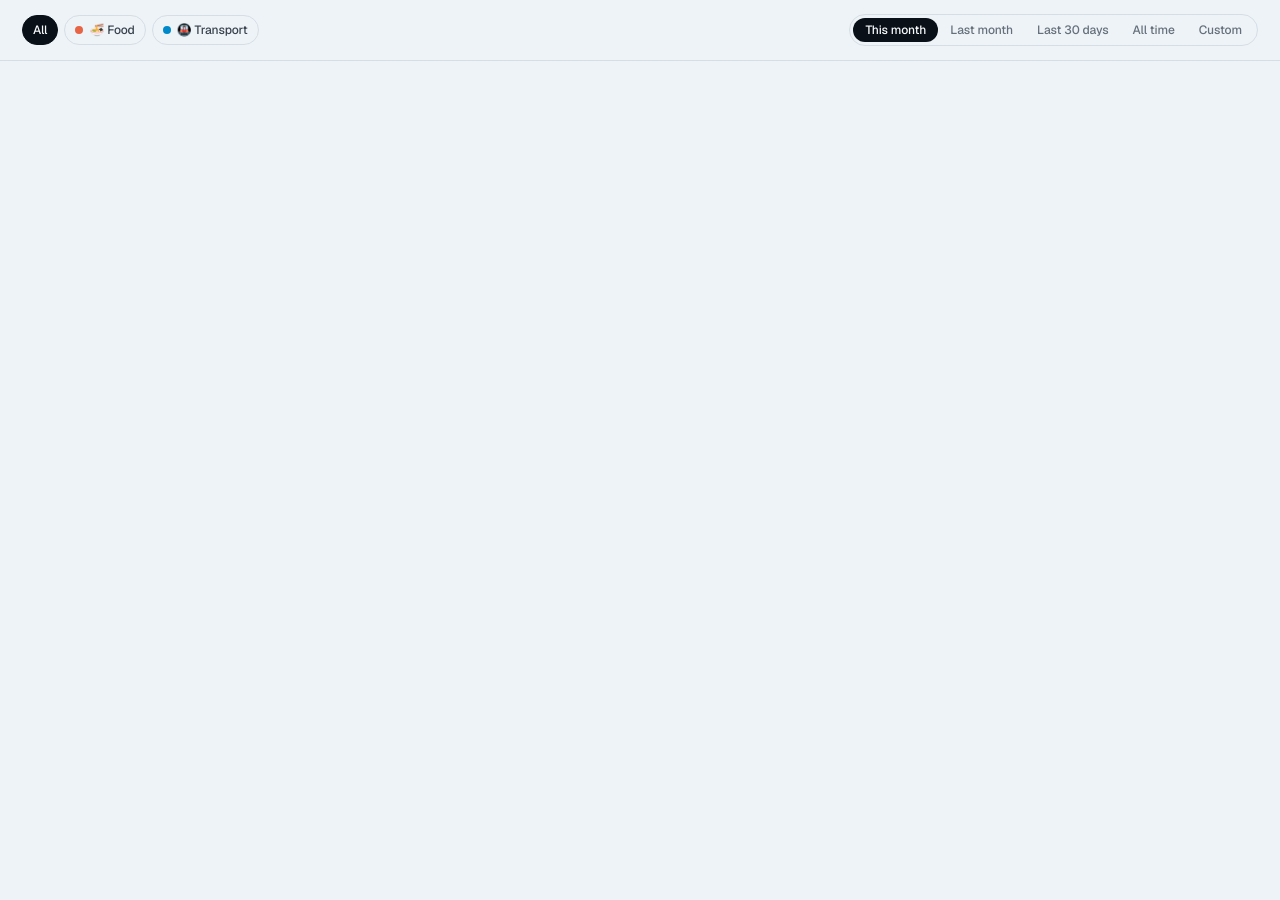
Test: FilterBar — Custom segment and popover › clicking Custom again toggles the popover closed
Click the button "Custom" at (1220, 30), box [1187,18,1254,42]
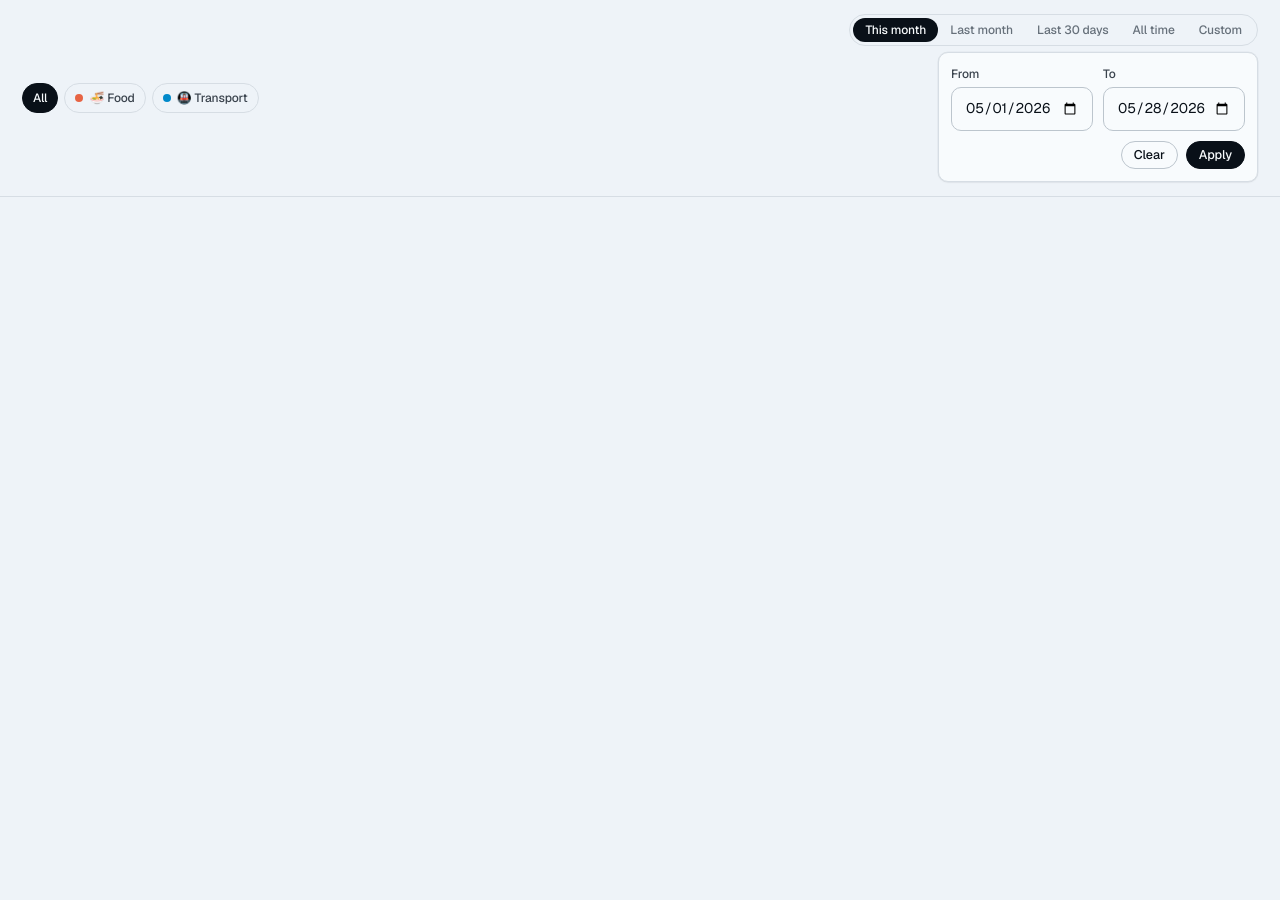
Click the button "Custom" at (1220, 30), box [1187,18,1254,42]
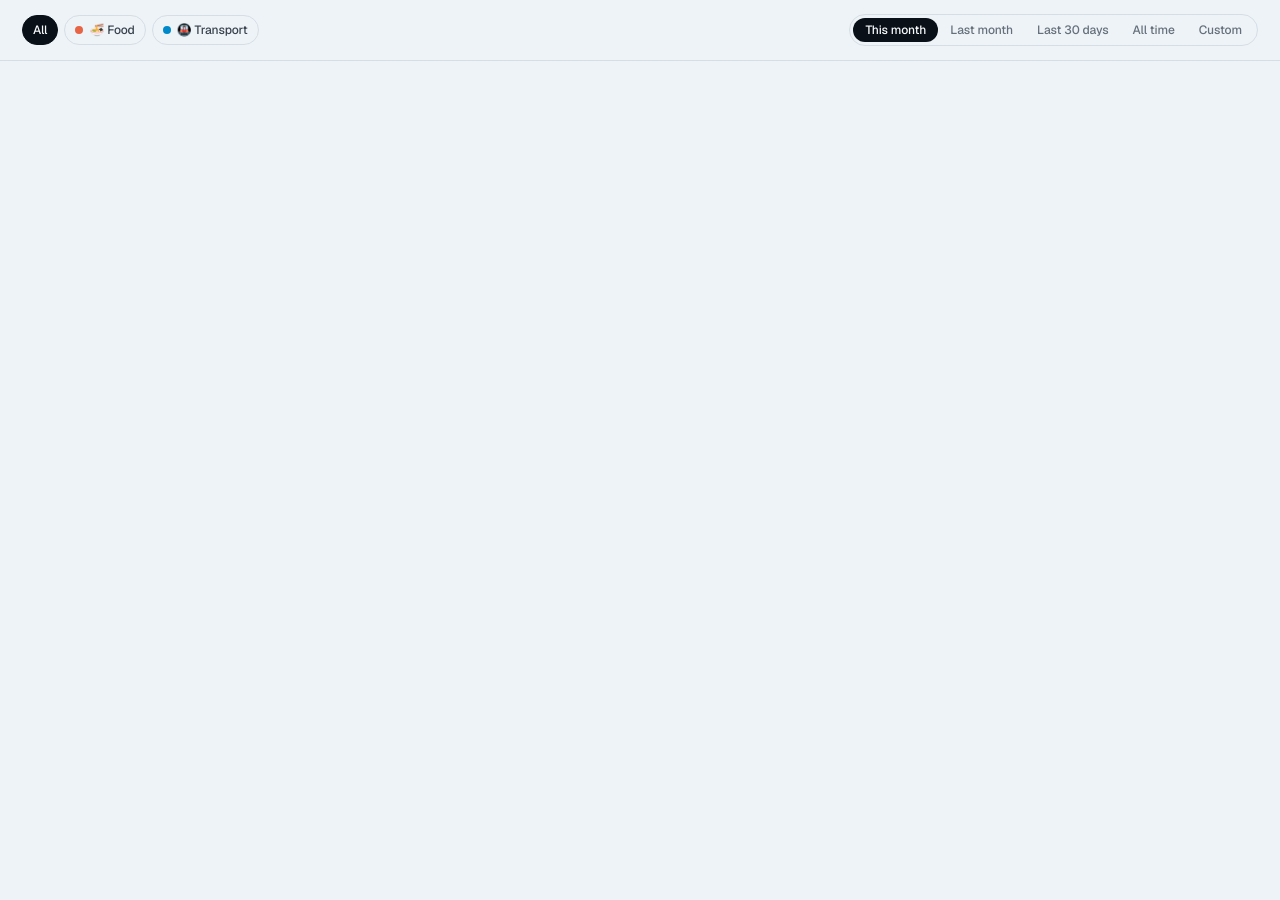
Now the dialog is gone
